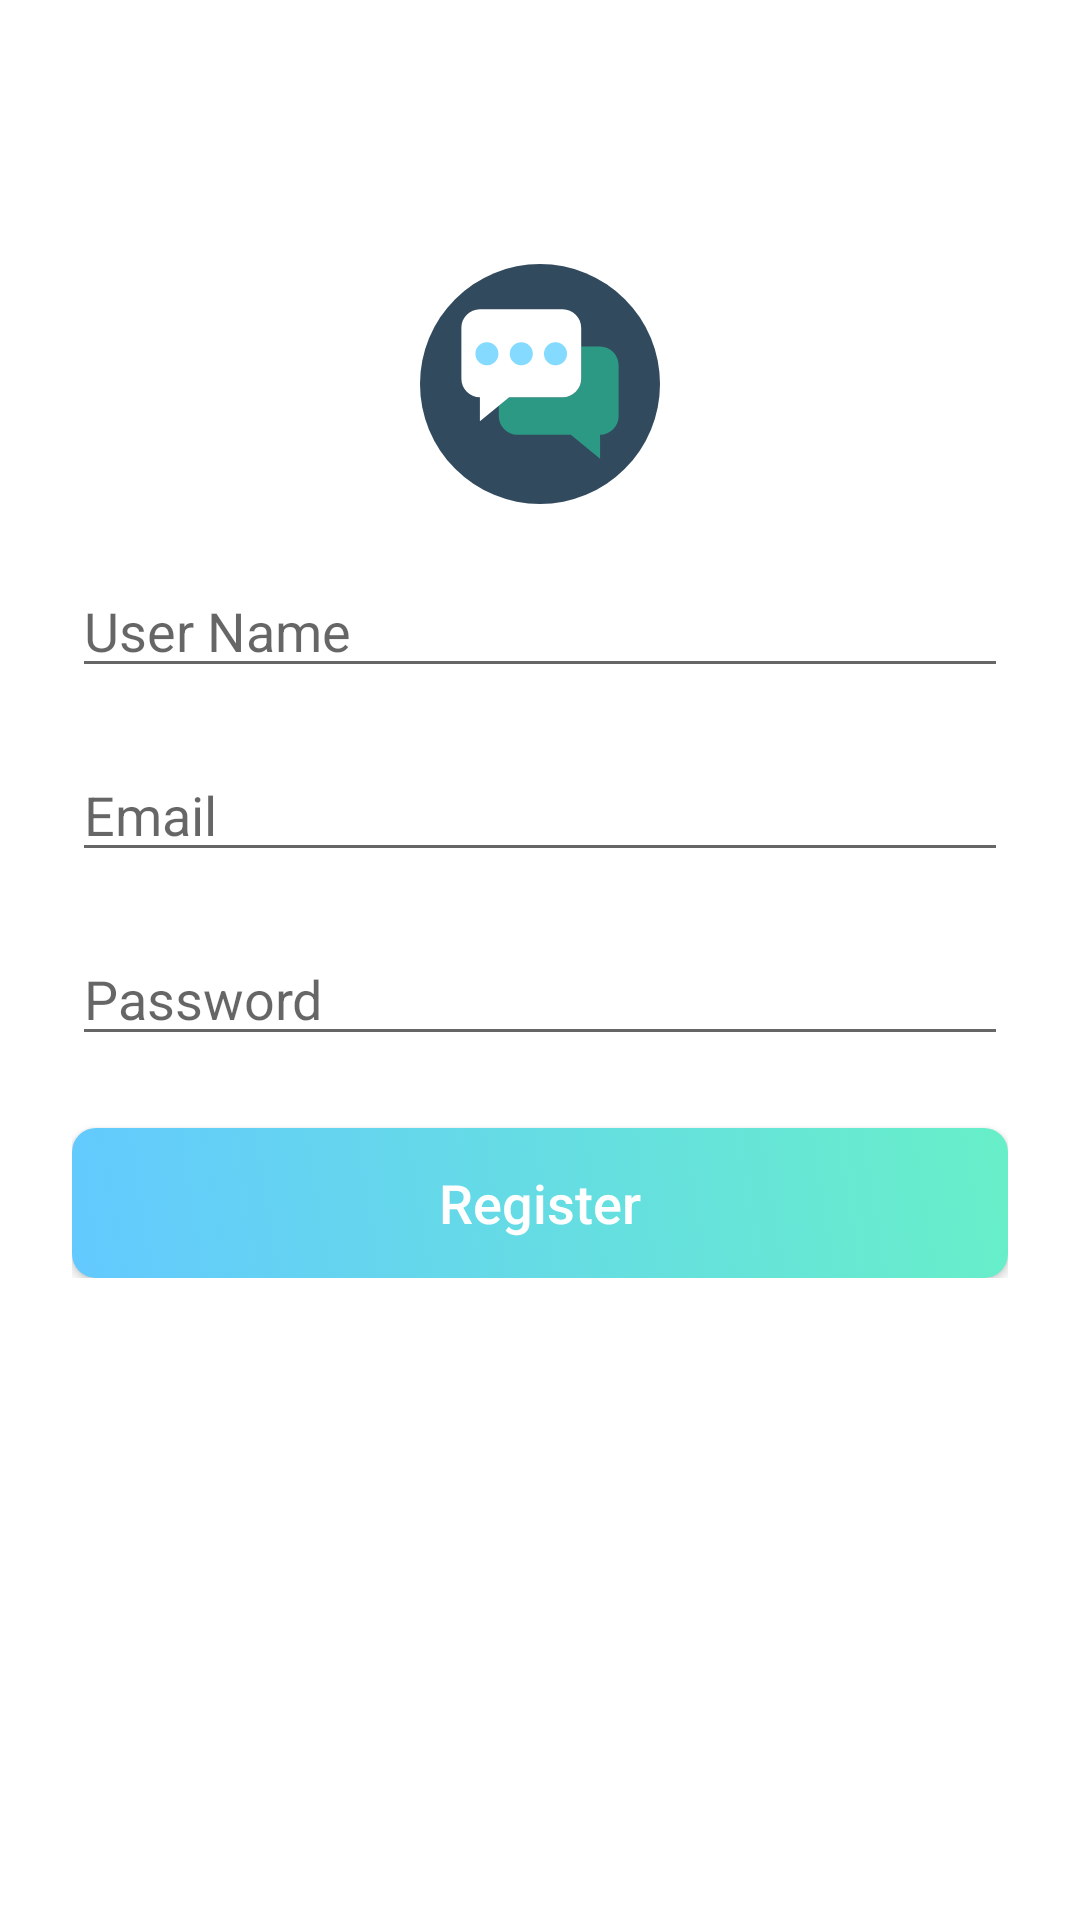

Named icons in this screenshot (1080x1920) and their bounding boxes, (x1=x1, y1=y1, x2=x2, y2=y2):
chat: (x1=420, y1=264, x2=660, y2=504)
